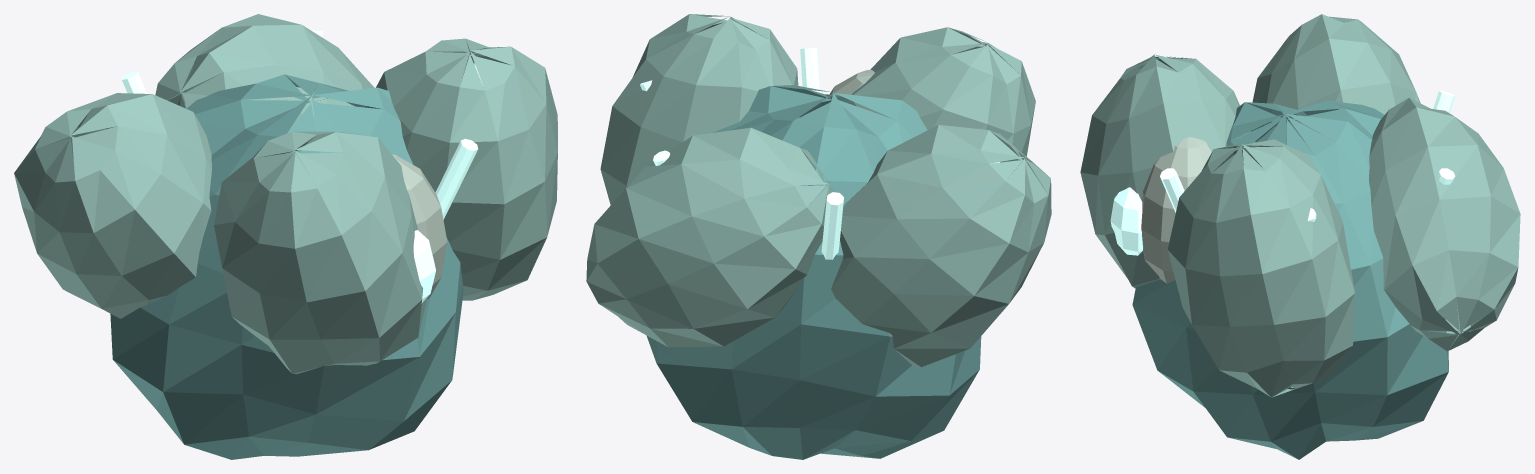
File: organic_mid.gltf
The picture shows the model from 3 angles, left to right: view 1: azimuth 30°, elevation 25°; view 2: azimuth 150°, elevation 25°; view 3: azimuth 270°, elevation 25°; orthographic projection. The views are drawn at different scales.
Parts seen in each view (by area): view 1: organic_mid; view 2: organic_mid; view 3: organic_mid.
Boxes of the visible parts, <box> form: organic_mid: <box>14,14,557,459</box>; organic_mid: <box>586,14,1051,459</box>; organic_mid: <box>1080,14,1520,459</box>.
Bounding box in the file's own units: 1.19 × 0.9455 × 1.07.
